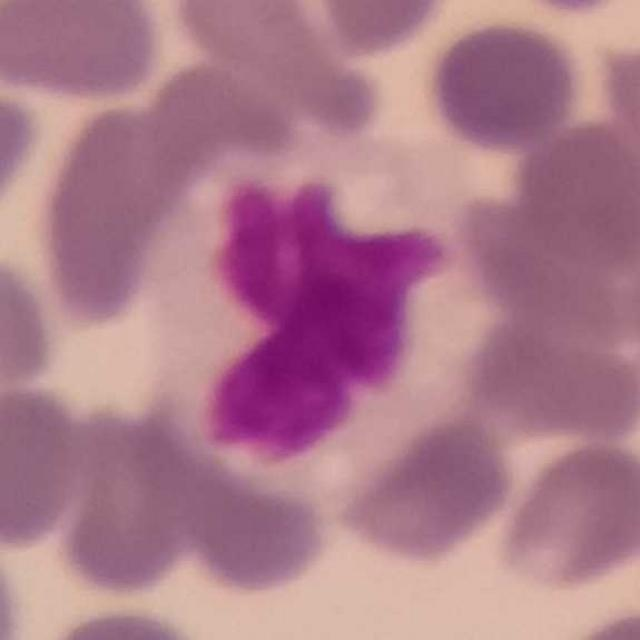Monocyte: (138, 130, 488, 507)
RBC: (28, 89, 200, 331), (461, 270, 640, 448), (49, 402, 204, 600), (328, 410, 519, 568), (497, 118, 640, 297), (491, 436, 640, 597), (159, 1, 441, 84), (420, 15, 586, 154), (173, 444, 327, 590), (0, 0, 169, 106), (0, 379, 91, 553), (0, 245, 60, 434), (310, 0, 462, 60), (0, 65, 47, 234), (597, 28, 640, 195), (29, 602, 217, 640), (543, 600, 640, 640), (0, 527, 30, 640), (519, 0, 623, 21)
